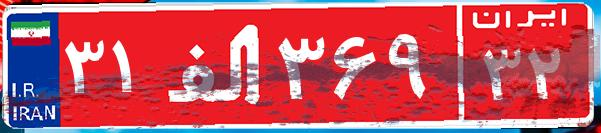1: (110, 28, 158, 105)
2: (525, 38, 570, 115)
3: (273, 28, 330, 110), (57, 26, 110, 107), (475, 38, 525, 113)
6: (330, 28, 385, 110)
9: (385, 28, 445, 110)
الف: (158, 15, 273, 115)
